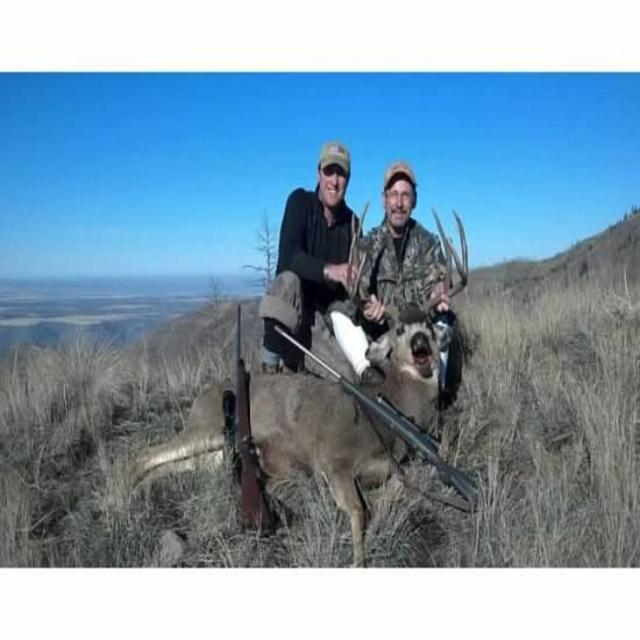Deer: (127, 211, 472, 567)
